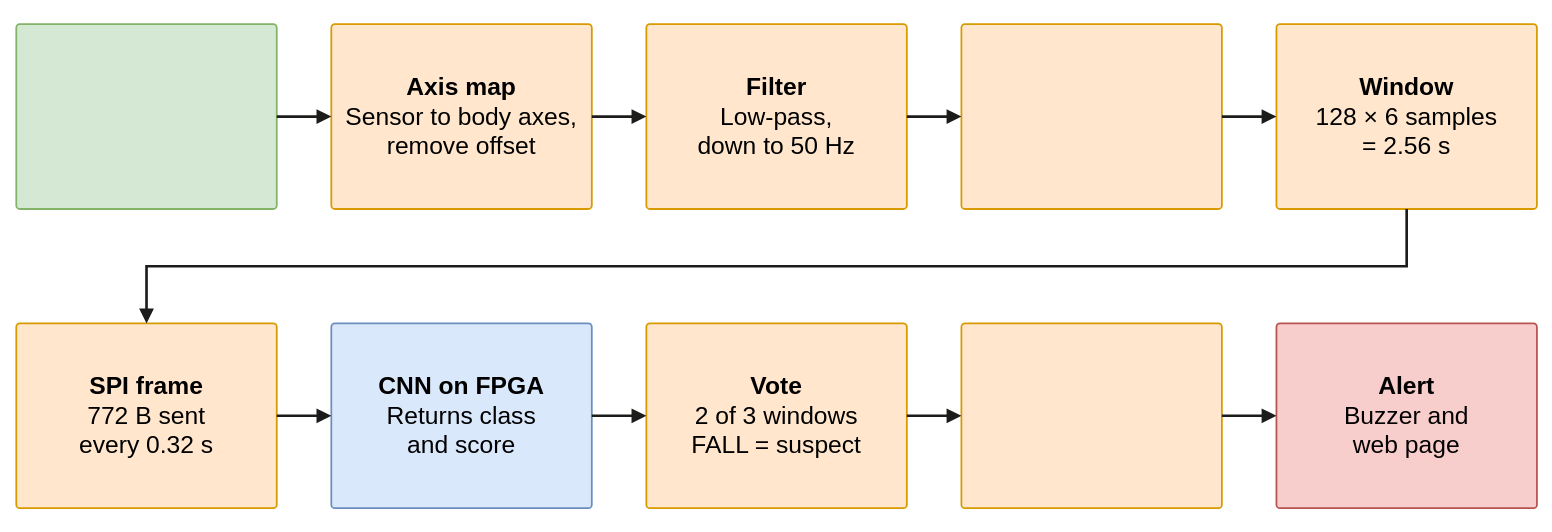
The diagram is 1552 pixels wide and 532 high, and some of its shapes have lost their labels. The shapes that lost their labels are listed below. From the top down, each one's box as (x1, y1, x2, y2) in pixels, then its label:
(15, 23, 277, 209): Sample 6 axes at 100 Hz on the MCU
(960, 23, 1222, 209): Quantize INT8 with rounding, saturation
(960, 322, 1222, 509): Confirm All 4 physical signs present
